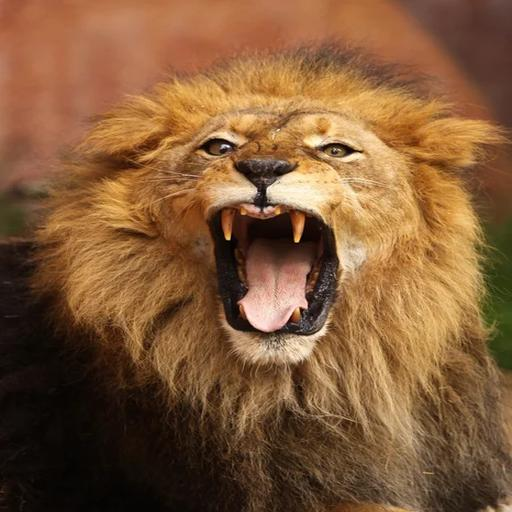Lion: (0, 43, 512, 512)
